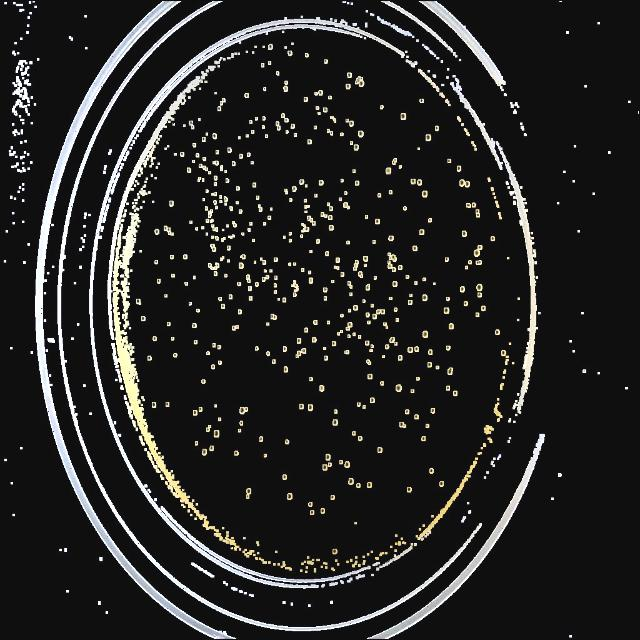colony: (286, 492, 294, 500), (213, 430, 219, 438), (201, 448, 207, 456), (239, 406, 245, 414), (322, 464, 328, 472), (344, 461, 350, 469), (348, 478, 354, 486), (406, 486, 412, 494), (438, 480, 444, 488), (429, 468, 435, 476), (446, 368, 454, 374), (422, 330, 428, 338), (396, 384, 402, 392), (192, 409, 198, 416), (325, 454, 331, 461), (210, 364, 216, 370), (200, 379, 206, 385), (151, 402, 157, 408), (258, 436, 264, 442), (246, 488, 252, 494), (332, 549, 338, 555), (320, 508, 326, 514), (282, 474, 288, 480), (284, 439, 290, 445), (338, 459, 344, 465), (366, 482, 372, 488), (430, 408, 436, 414), (427, 362, 433, 368), (476, 285, 482, 291), (370, 398, 376, 404), (460, 286, 464, 294), (189, 120, 193, 126), (190, 125, 196, 129), (202, 136, 206, 142), (212, 133, 216, 139), (192, 142, 196, 148), (181, 152, 185, 158), (187, 167, 191, 173), (202, 156, 206, 162), (153, 336, 157, 342), (218, 296, 222, 302), (229, 294, 233, 300), (173, 352, 177, 358), (206, 350, 210, 356), (217, 344, 221, 350), (218, 360, 222, 366), (166, 401, 170, 407), (199, 406, 203, 412), (214, 404, 218, 410), (209, 446, 213, 452), (234, 450, 238, 456), (239, 420, 243, 426), (244, 406, 248, 412), (309, 510, 315, 514), (308, 501, 312, 507), (330, 496, 336, 500), (356, 483, 360, 489), (444, 308, 448, 314), (449, 323, 453, 329), (414, 346, 418, 352), (398, 355, 402, 361), (385, 344, 389, 350), (390, 337, 394, 343), (368, 374, 372, 380), (357, 402, 361, 408), (308, 404, 312, 410), (333, 420, 337, 426), (475, 250, 479, 256), (359, 80, 363, 86), (212, 342, 215, 348), (247, 493, 250, 499), (461, 180, 464, 186), (198, 118, 202, 122), (205, 132, 209, 136), (213, 176, 217, 180), (213, 182, 217, 186), (155, 230, 159, 234), (154, 260, 158, 264), (136, 300, 140, 304), (192, 324, 196, 328), (196, 309, 200, 313), (188, 302, 192, 306), (214, 272, 218, 276), (221, 304, 225, 308), (194, 340, 198, 344), (218, 417, 222, 421), (208, 424, 212, 428), (194, 442, 198, 446), (238, 429, 242, 433), (328, 462, 332, 466), (421, 437, 425, 441), (415, 416, 419, 420), (405, 410, 409, 414), (402, 424, 406, 428), (454, 391, 458, 395), (428, 350, 432, 354), (464, 302, 468, 306), (408, 348, 412, 352), (394, 342, 398, 346), (380, 382, 384, 386), (410, 389, 414, 393), (416, 377, 420, 381), (362, 405, 366, 409), (332, 342, 336, 346), (312, 338, 316, 342), (284, 367, 288, 371), (262, 278, 266, 282), (294, 284, 298, 288), (274, 258, 278, 262), (320, 386, 324, 390), (352, 432, 356, 436), (378, 448, 382, 452), (478, 260, 482, 264), (398, 266, 402, 270), (423, 296, 427, 300), (408, 300, 412, 304), (394, 308, 398, 312), (372, 314, 376, 318), (354, 264, 358, 268), (363, 257, 367, 261), (388, 264, 392, 268), (462, 232, 466, 236), (386, 169, 390, 173), (426, 136, 430, 140), (401, 114, 405, 118), (354, 146, 358, 150), (288, 51, 292, 55), (268, 45, 272, 49), (284, 118, 288, 122), (216, 160, 218, 166), (237, 186, 240, 190), (170, 200, 172, 206), (217, 264, 220, 268), (225, 274, 228, 278), (207, 428, 210, 432), (264, 452, 266, 458), (400, 422, 402, 428), (446, 386, 449, 390), (446, 346, 449, 350), (496, 330, 498, 336), (371, 344, 374, 348), (212, 247, 215, 251), (300, 404, 302, 410), (334, 411, 338, 414), (358, 436, 362, 439), (366, 286, 369, 290), (336, 258, 339, 262), (346, 84, 349, 88), (300, 180, 304, 183), (192, 160, 195, 163), (196, 153, 198, 157), (200, 164, 202, 168), (203, 166, 205, 170), (208, 172, 212, 174), (202, 178, 204, 182), (198, 177, 202, 179), (197, 178, 199, 182), (216, 150, 218, 154), (228, 148, 230, 152), (232, 162, 234, 166), (240, 154, 242, 158), (226, 179, 228, 183), (206, 190, 208, 194), (214, 200, 216, 204), (230, 207, 232, 211), (164, 226, 166, 230), (168, 228, 170, 232), (184, 255, 186, 259), (172, 274, 174, 278), (158, 279, 160, 283), (185, 282, 187, 286), (142, 316, 144, 320), (167, 322, 169, 326), (209, 263, 211, 267), (220, 258, 222, 262), (222, 256, 224, 260), (426, 424, 428, 428), (436, 366, 438, 370), (502, 351, 504, 355), (476, 312, 478, 316), (482, 306, 484, 310), (478, 294, 482, 296), (382, 356, 386, 358), (348, 324, 352, 326), (302, 350, 306, 352), (298, 351, 300, 355), (296, 354, 298, 358), (298, 339, 300, 343), (305, 328, 307, 332), (284, 347, 286, 351), (239, 310, 241, 314), (271, 314, 273, 318), (238, 282, 240, 286), (247, 278, 249, 282), (256, 282, 258, 286), (275, 276, 277, 280), (274, 290, 276, 294), (283, 298, 285, 302), (294, 292, 296, 296), (240, 263, 242, 267), (252, 238, 254, 242), (259, 207, 261, 211), (469, 260, 471, 264), (478, 246, 482, 248), (446, 258, 448, 262), (414, 246, 416, 250), (382, 310, 384, 314), (377, 310, 379, 314), (367, 313, 369, 317), (354, 306, 356, 310), (341, 272, 343, 276), (324, 288, 326, 292), (324, 296, 326, 300), (359, 272, 361, 276), (360, 274, 362, 278), (356, 260, 358, 264), (310, 278, 312, 282), (330, 226, 332, 230), (328, 216, 332, 218), (344, 203, 346, 207), (376, 220, 378, 224), (420, 230, 422, 234), (392, 268, 396, 270), (394, 282, 396, 286), (467, 204, 471, 206), (466, 182, 468, 186), (458, 167, 460, 171), (424, 192, 426, 196), (418, 180, 420, 184), (436, 126, 438, 130), (348, 74, 352, 76), (360, 132, 362, 136), (350, 122, 352, 126), (324, 108, 326, 112), (285, 87, 287, 91), (218, 107, 220, 111), (223, 98, 225, 102), (278, 126, 280, 130), (282, 114, 284, 118), (292, 124, 294, 128), (286, 130, 288, 134), (308, 140, 310, 144), (292, 188, 296, 190), (320, 181, 322, 185), (220, 166, 223, 168), (214, 192, 216, 195), (209, 215, 211, 218), (202, 227, 204, 230), (212, 228, 215, 230), (216, 237, 218, 240), (170, 256, 173, 258), (233, 326, 235, 329), (366, 360, 369, 362), (325, 356, 327, 359), (314, 321, 316, 324), (228, 247, 230, 250), (250, 222, 252, 225), (268, 217, 270, 220), (258, 205, 260, 208), (257, 197, 259, 200), (255, 346, 257, 349), (492, 237, 494, 240), (326, 252, 328, 255), (313, 222, 315, 225), (308, 217, 310, 220), (321, 212, 323, 215), (390, 237, 392, 240), (476, 214, 479, 216), (319, 92, 321, 95), (206, 168, 208, 170), (213, 162, 215, 164), (221, 169, 223, 171), (224, 171, 226, 173), (211, 193, 213, 195), (220, 196, 222, 198), (224, 197, 226, 199), (225, 198, 227, 200), (203, 198, 205, 200), (220, 201, 222, 203), (236, 202, 238, 204), (239, 210, 241, 212), (205, 208, 207, 210), (211, 210, 213, 212), (208, 211, 210, 213), (211, 219, 213, 221), (210, 220, 212, 222), (206, 220, 208, 222), (190, 221, 192, 223), (195, 228, 197, 230), (212, 225, 214, 227), (215, 228, 217, 230), (206, 233, 208, 235), (212, 236, 214, 238), (222, 229, 224, 231), (226, 225, 228, 227), (232, 221, 234, 223), (234, 224, 236, 226), (168, 232, 170, 234), (171, 233, 173, 235), (193, 276, 195, 278), (165, 295, 167, 297), (139, 303, 141, 305), (172, 338, 174, 340), (210, 267, 212, 269), (212, 267, 214, 269), (214, 267, 216, 269), (215, 262, 217, 264), (447, 298, 449, 300), (368, 362, 370, 364), (370, 349, 372, 351), (366, 342, 368, 344), (347, 351, 349, 353), (345, 351, 347, 353), (348, 335, 350, 337), (358, 336, 360, 338), (353, 333, 355, 335), (347, 328, 349, 330), (327, 322, 329, 324), (273, 316, 275, 318), (249, 287, 251, 289), (247, 276, 249, 278), (266, 276, 268, 278), (264, 270, 266, 272), (270, 270, 272, 272), (274, 284, 276, 286), (277, 298, 279, 300), (263, 262, 265, 264), (254, 261, 256, 263), (260, 258, 262, 260), (242, 256, 244, 258), (212, 245, 214, 247), (228, 236, 230, 238), (230, 236, 232, 238), (232, 234, 234, 236), (242, 233, 244, 235), (248, 229, 250, 231), (264, 222, 266, 224), (270, 208, 272, 210), (253, 184, 255, 186), (248, 154, 250, 156), (236, 326, 238, 328), (310, 378, 312, 380), (465, 266, 467, 268), (477, 262, 479, 264), (423, 278, 425, 280), (415, 282, 417, 284), (410, 294, 412, 296), (384, 323, 386, 325), (367, 321, 369, 323), (371, 305, 373, 307), (363, 300, 365, 302), (341, 315, 343, 317), (350, 286, 352, 288), (348, 282, 350, 284), (332, 281, 334, 283), (354, 268, 356, 270), (364, 264, 366, 266), (337, 267, 339, 269), (334, 266, 336, 268), (308, 271, 310, 273), (302, 269, 304, 271), (289, 263, 291, 265), (310, 251, 312, 253), (317, 240, 319, 242), (289, 233, 291, 235), (306, 228, 308, 230), (310, 219, 312, 221), (325, 215, 327, 217), (330, 208, 332, 210), (327, 203, 329, 205), (307, 206, 309, 208), (304, 200, 306, 202), (315, 195, 317, 197), (339, 198, 341, 200), (347, 206, 349, 208), (345, 192, 347, 194), (356, 182, 358, 184), (341, 179, 343, 181), (353, 170, 355, 172), (378, 194, 380, 196), (390, 191, 392, 193), (404, 207, 406, 209), (373, 241, 375, 243), (394, 258, 396, 260), (392, 256, 394, 258), (388, 253, 390, 255), (389, 257, 391, 259), (388, 261, 390, 263), (406, 276, 408, 278), (476, 210, 478, 212), (473, 204, 475, 206), (448, 160, 450, 162), (412, 180, 414, 182), (393, 162, 395, 164), (394, 159, 396, 161), (421, 100, 423, 102), (380, 106, 382, 108), (360, 78, 362, 80), (357, 80, 359, 82), (355, 81, 357, 83), (350, 142, 352, 144), (341, 133, 343, 135), (330, 132, 332, 134), (327, 130, 329, 132), (318, 112, 320, 114), (314, 126, 316, 128), (329, 96, 331, 98), (316, 107, 318, 109), (304, 98, 306, 100), (285, 81, 287, 83), (277, 72, 279, 74), (264, 88, 266, 90), (262, 64, 264, 66), (268, 62, 270, 64), (306, 54, 308, 56), (246, 94, 248, 96), (256, 118, 258, 120), (263, 117, 265, 119), (250, 121, 252, 123), (262, 126, 264, 128), (252, 131, 254, 133), (265, 135, 267, 137), (276, 122, 278, 124), (294, 134, 296, 136), (246, 135, 248, 137), (238, 137, 240, 139), (325, 60, 327, 62), (285, 189, 287, 191), (285, 192, 287, 194), (290, 199, 292, 201), (305, 185, 307, 187), (429, 219, 431, 221), (226, 203, 227, 205), (216, 206, 217, 208), (341, 331, 342, 333), (223, 238, 224, 240), (397, 319, 398, 321), (348, 309, 349, 311), (358, 77, 359, 79), (347, 119, 348, 121), (387, 327, 388, 328), (324, 348, 324, 348), (338, 333, 338, 335), (274, 360, 274, 362), (268, 352, 268, 354), (266, 324, 268, 324), (250, 296, 250, 300), (222, 239, 222, 241), (252, 162, 252, 164), (351, 294, 352, 294), (294, 264, 296, 264), (302, 235, 302, 237), (290, 239, 290, 241), (284, 236, 284, 238), (306, 212, 306, 212), (306, 206, 306, 208), (366, 216, 366, 218), (374, 278, 376, 278), (389, 298, 391, 298), (316, 92, 316, 96), (222, 102, 222, 104)
